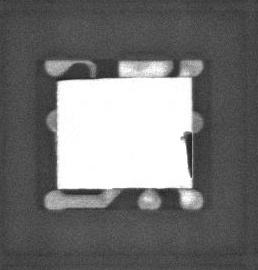DIE_BROKEN: (178, 127, 194, 178)
